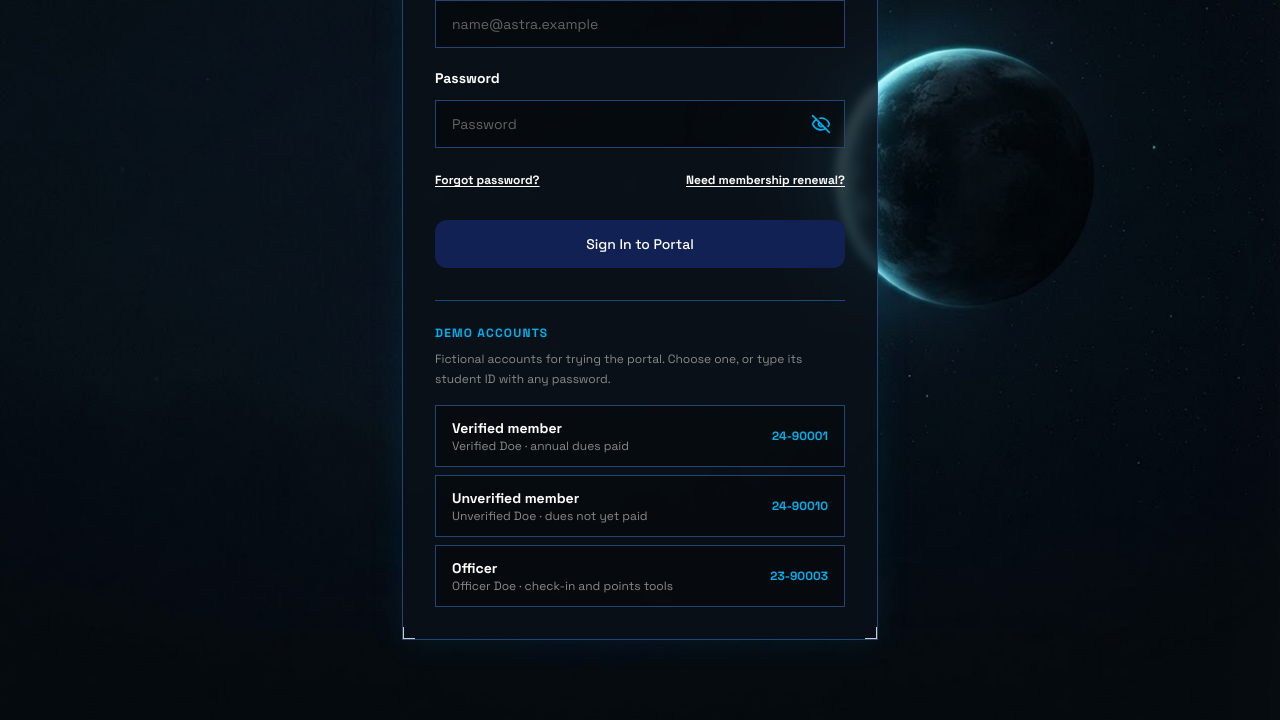
Test: event check-in › checks in a member by student ID
(page scrolled)
Click the button "Officer Officer Doe · check-in and points tools 23-90003": click(640, 576) x1=435 y1=545 x2=845 y2=607
(page scrolled)
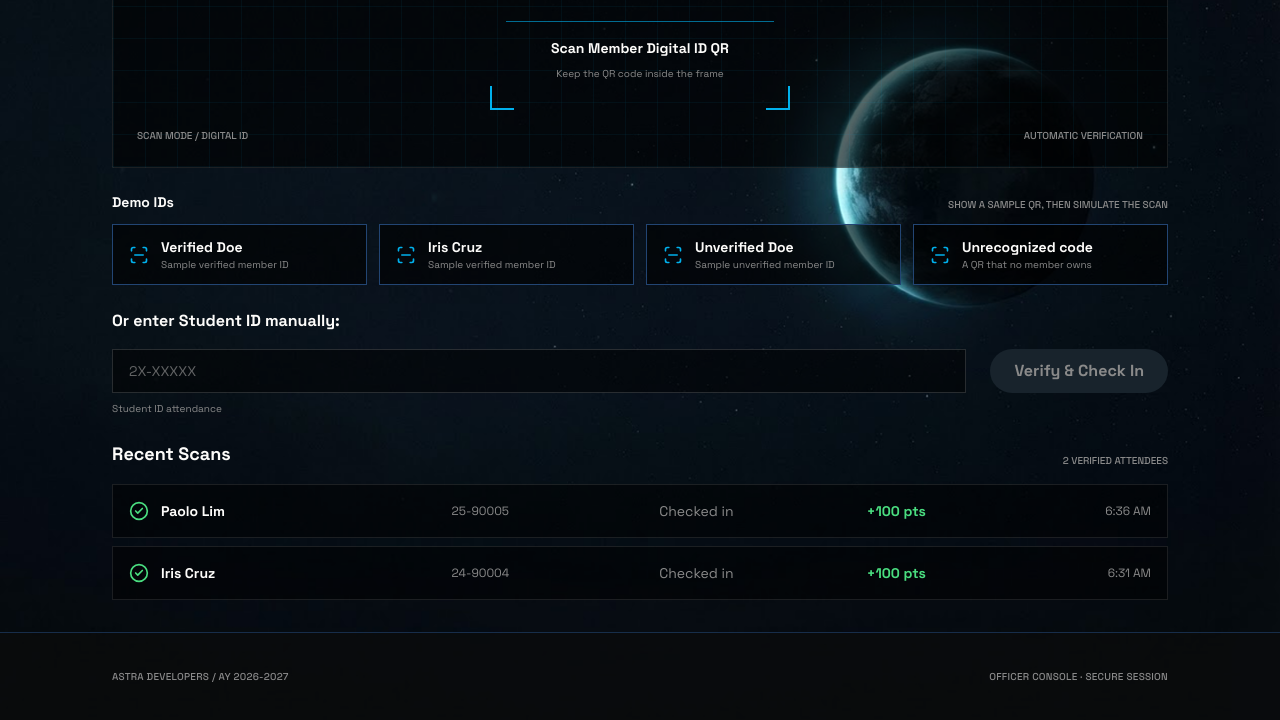
In the field labelled "Or enter Student ID manually:": (539, 371) x1=112 y1=349 x2=966 y2=393, type "23-90006"
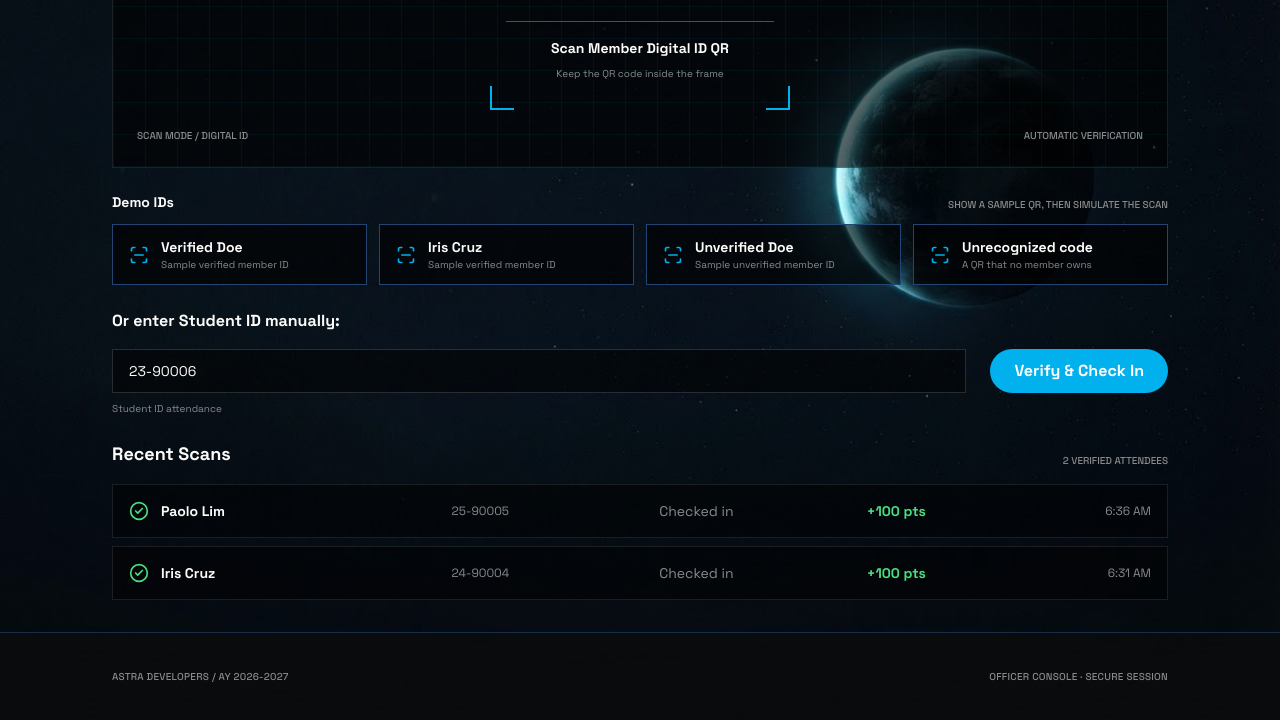
Click the button "Verify & Check In": click(1079, 371) x1=990 y1=349 x2=1168 y2=393
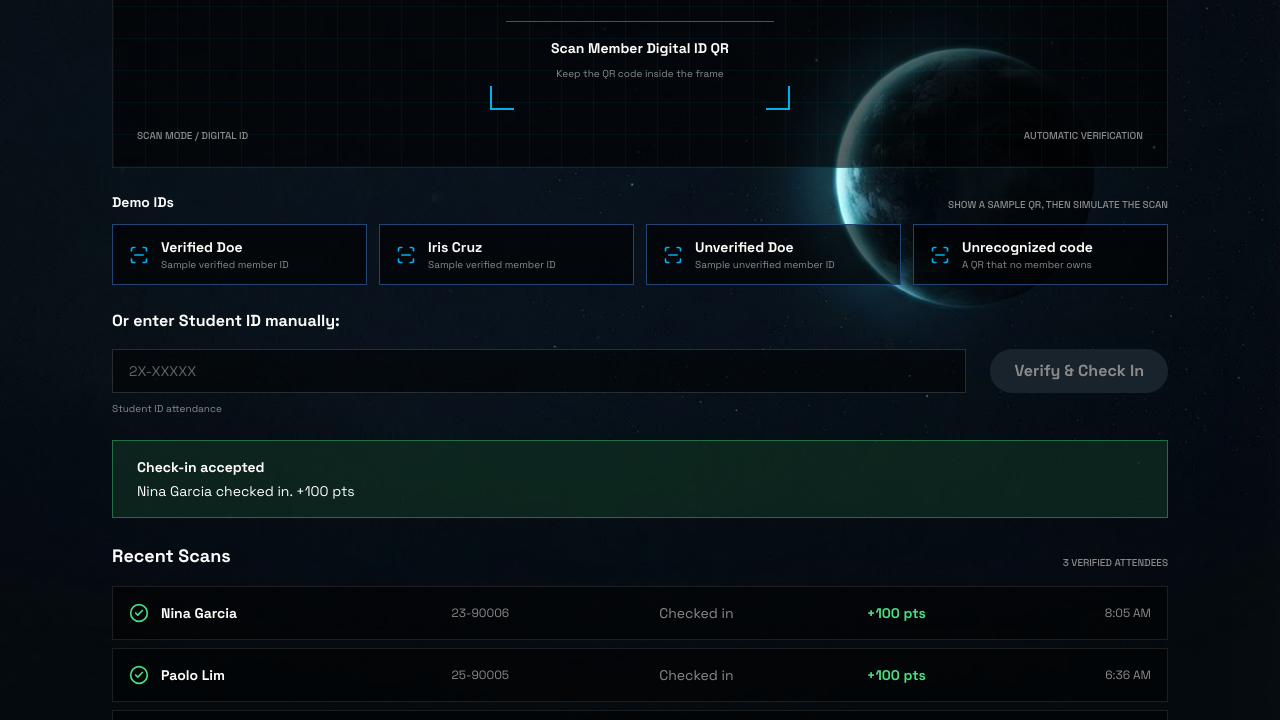
Now the message shows "Nina Garcia checked in.", box x1=137 y1=482 x2=355 y2=500
